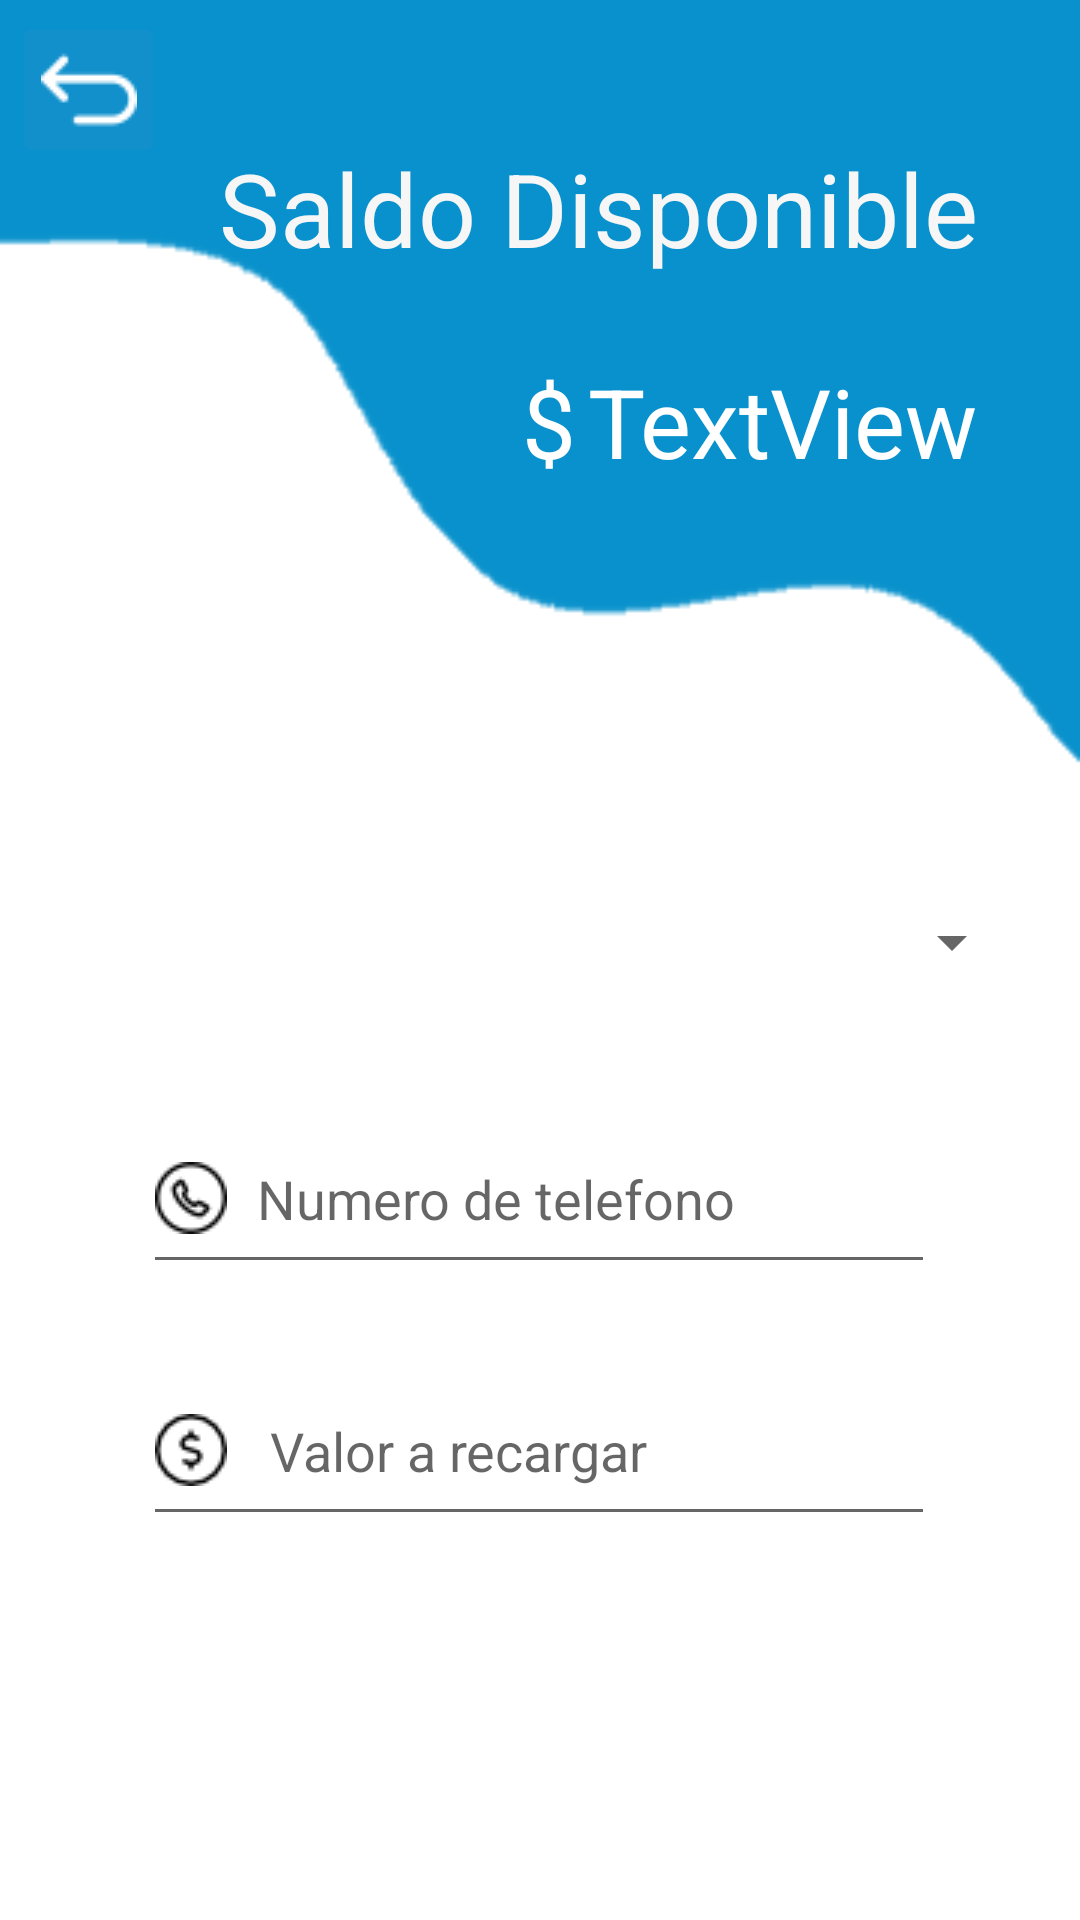

Icon click points for this 1080 x 1920 phone screenshot, format [x,y]:
regreso: [88,90]
